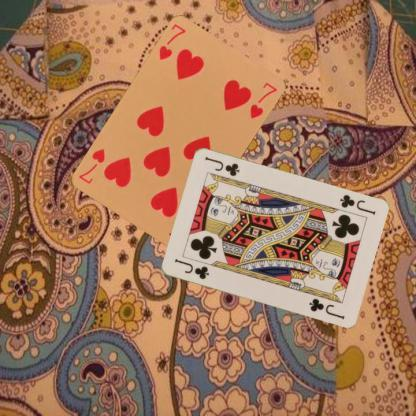7h: (156, 21, 187, 62)
Jc: (170, 256, 210, 281), (337, 192, 377, 216)
